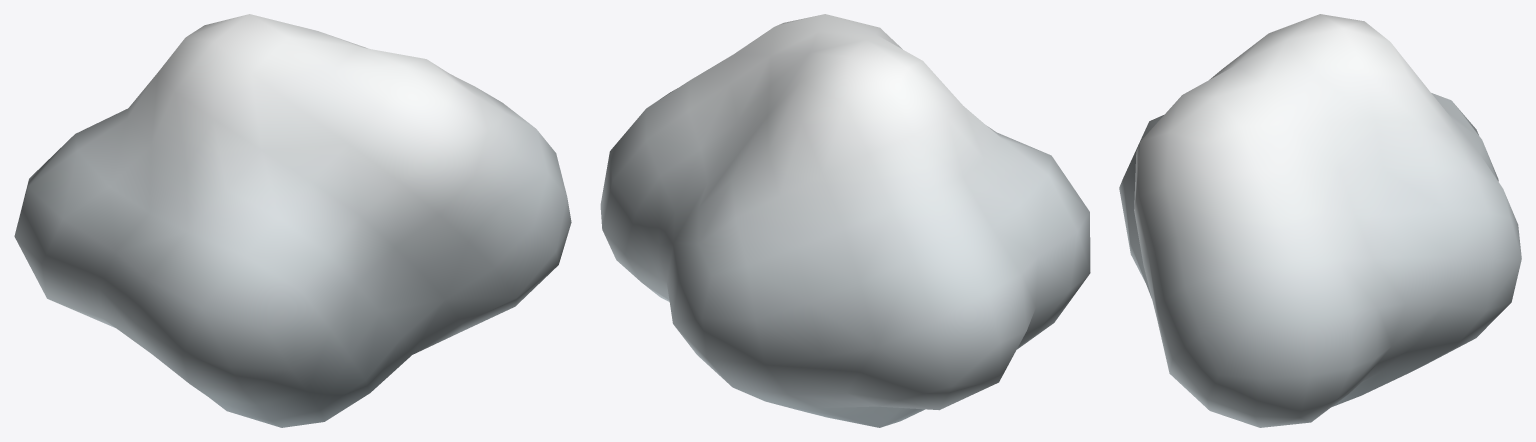
File: hex-cloud_small.glb
The picture shows the model from 3 angles, left to right: view 1: azimuth 30°, elevation 25°; view 2: azimuth 150°, elevation 25°; view 3: azimuth 270°, elevation 25°; orthographic projection. The views are drawn at different scales.
Visible parts, largest first — view 1: cloud_small; view 2: cloud_small; view 3: cloud_small.
Part boxes in pixels (bbox=[...]): cloud_small: bbox=[14, 14, 571, 427]; cloud_small: bbox=[600, 14, 1090, 427]; cloud_small: bbox=[1119, 14, 1521, 427].
Bounding box in the file's own units: 2.34 × 1.84 × 1.79.
Materials: 1 (1 with a texture image).
